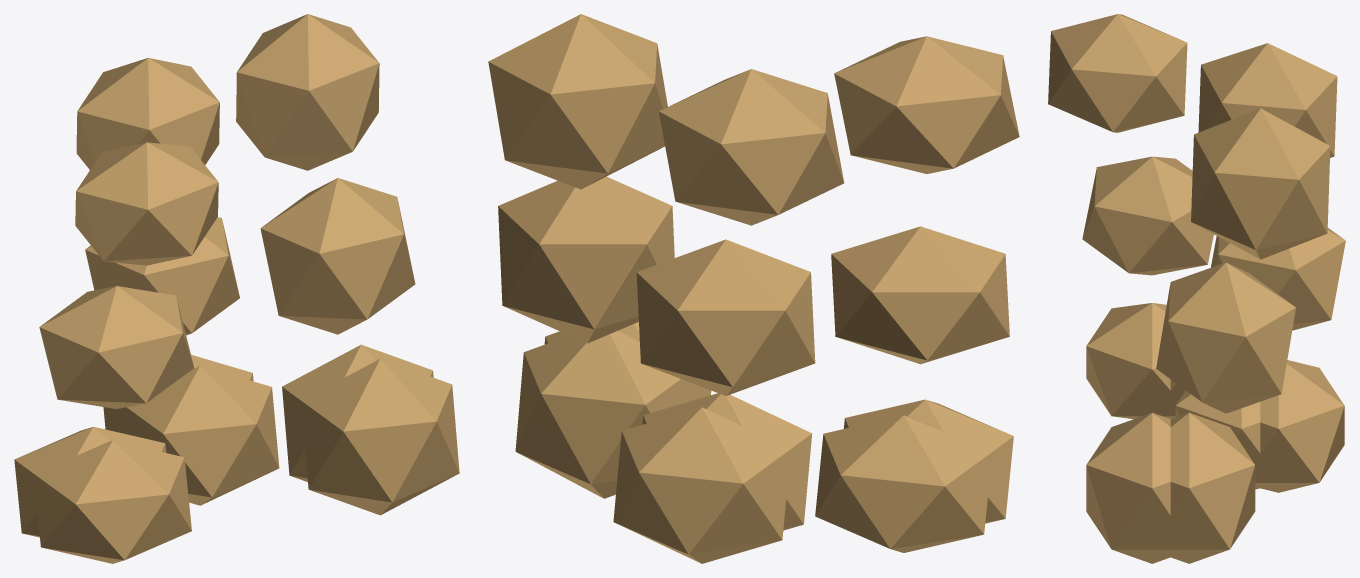
File: Stone_Sandstone.fbx
The picture shows the model from 3 angles, left to right: view 1: azimuth 30°, elevation 25°; view 2: azimuth 150°, elevation 25°; view 3: azimuth 270°, elevation 25°; orthographic projection. The views are drawn at different scales.
Parts seen in each view (by area): view 1: Stone_Sandstone__Stack, Stone_Sandstone; view 2: Stone_Sandstone__Stack, Stone_Sandstone; view 3: Stone_Sandstone__Stack, Stone_Sandstone.
Boxes of the visible parts, x1,y1,x2,y2 form: Stone_Sandstone__Stack: (14,14,433,537); Stone_Sandstone: (33,358,459,563); Stone_Sandstone__Stack: (488,14,1019,563); Stone_Sandstone: (544,322,1013,530); Stone_Sandstone__Stack: (1048,14,1345,563); Stone_Sandstone: (1086,303,1282,563).
Bounding box in the file's own units: 0.1537 × 0.1658 × 0.0999.
